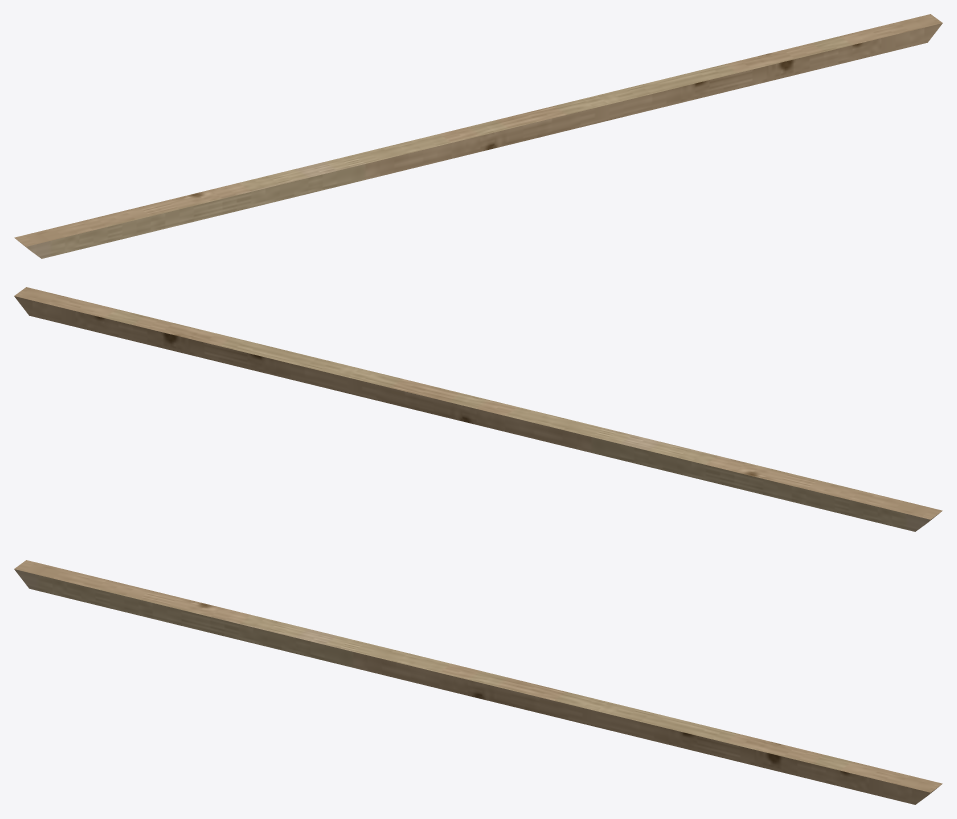
File: Joglo_part_423.fbx
3 views of the same model, one above another, from view 1: azimuth 30°, elevation 25°; view 2: azimuth 150°, elevation 25°; view 3: azimuth 330°, elevation 25° (orthographic).
Visible parts, largest first — view 1: Mesh90_Wood___Pine_Grained_Horizontal_0.001; view 2: Mesh90_Wood___Pine_Grained_Horizontal_0.001; view 3: Mesh90_Wood___Pine_Grained_Horizontal_0.001.
Part boxes in pixels (x1,y1,x2,y2): Mesh90_Wood___Pine_Grained_Horizontal_0.001: [14, 14, 942, 258]; Mesh90_Wood___Pine_Grained_Horizontal_0.001: [14, 287, 942, 531]; Mesh90_Wood___Pine_Grained_Horizontal_0.001: [14, 560, 942, 804].
Size of the model in its own units: 59.05 by 0.9842 by 1.38.
